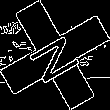N_NE: (23, 25, 87, 85)
